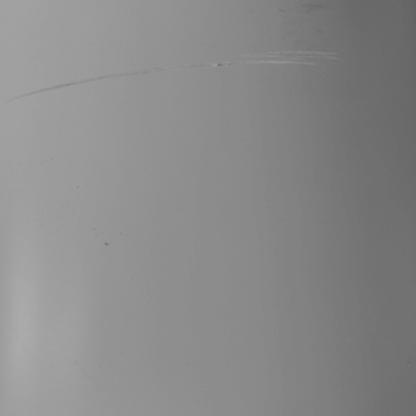sunshang: (4, 50, 343, 105)
